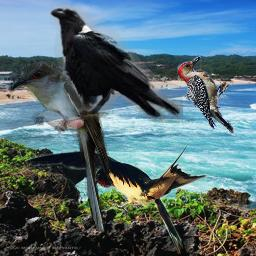Crow: (50, 2, 183, 123)
Cuckoo: (9, 61, 113, 231)
Swallow: (22, 140, 241, 254)
Woodpecker: (177, 56, 234, 134)
